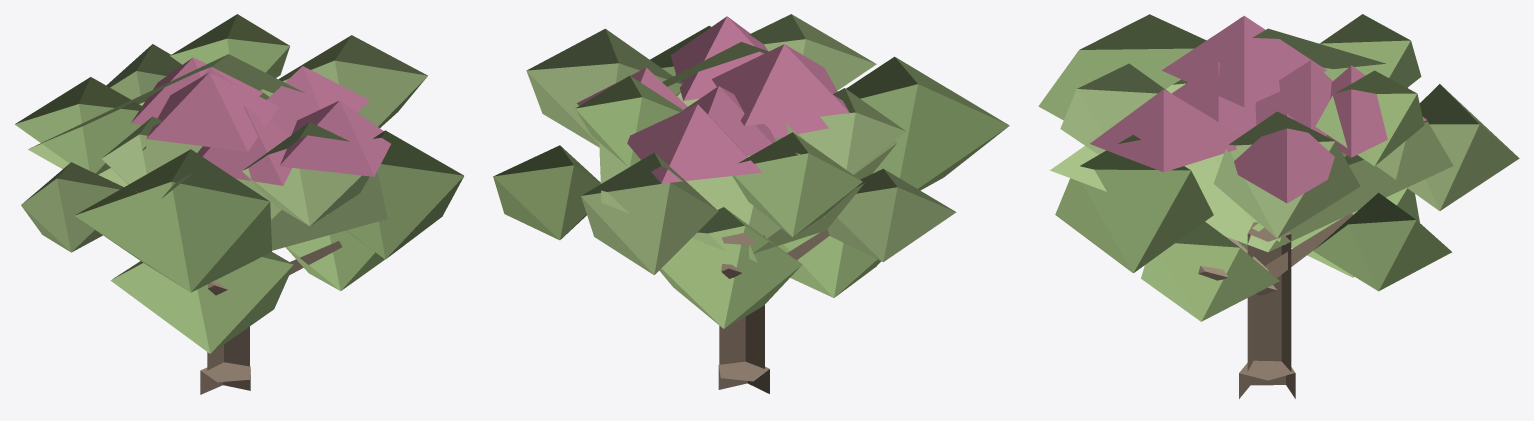
Rendered from tree.temp.willow__bloom.glb.
The picture shows the model from 3 angles, left to right: view 1: azimuth 30°, elevation 25°; view 2: azimuth 150°, elevation 25°; view 3: azimuth 270°, elevation 25°; orthographic projection. The views are drawn at different scales.
Parts seen in each view (by area): view 1: tree.temp.willow__bloom; view 2: tree.temp.willow__bloom; view 3: tree.temp.willow__bloom.
Boxes of the visible parts, left/top/right/bottom form: tree.temp.willow__bloom: left=15, top=14, right=463, bottom=394; tree.temp.willow__bloom: left=493, top=14, right=1009, bottom=393; tree.temp.willow__bloom: left=1038, top=14, right=1519, bottom=398.
Size of the model in its own units: 12.56 by 10.24 by 12.18.
